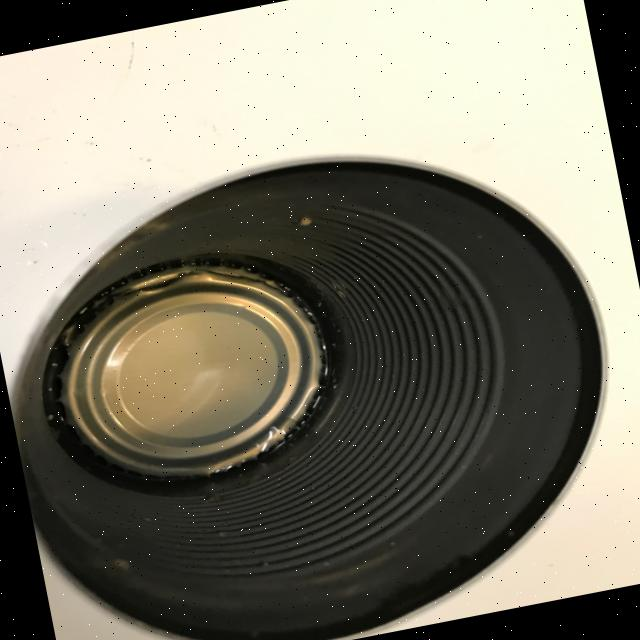metal: (0, 105, 640, 640)
